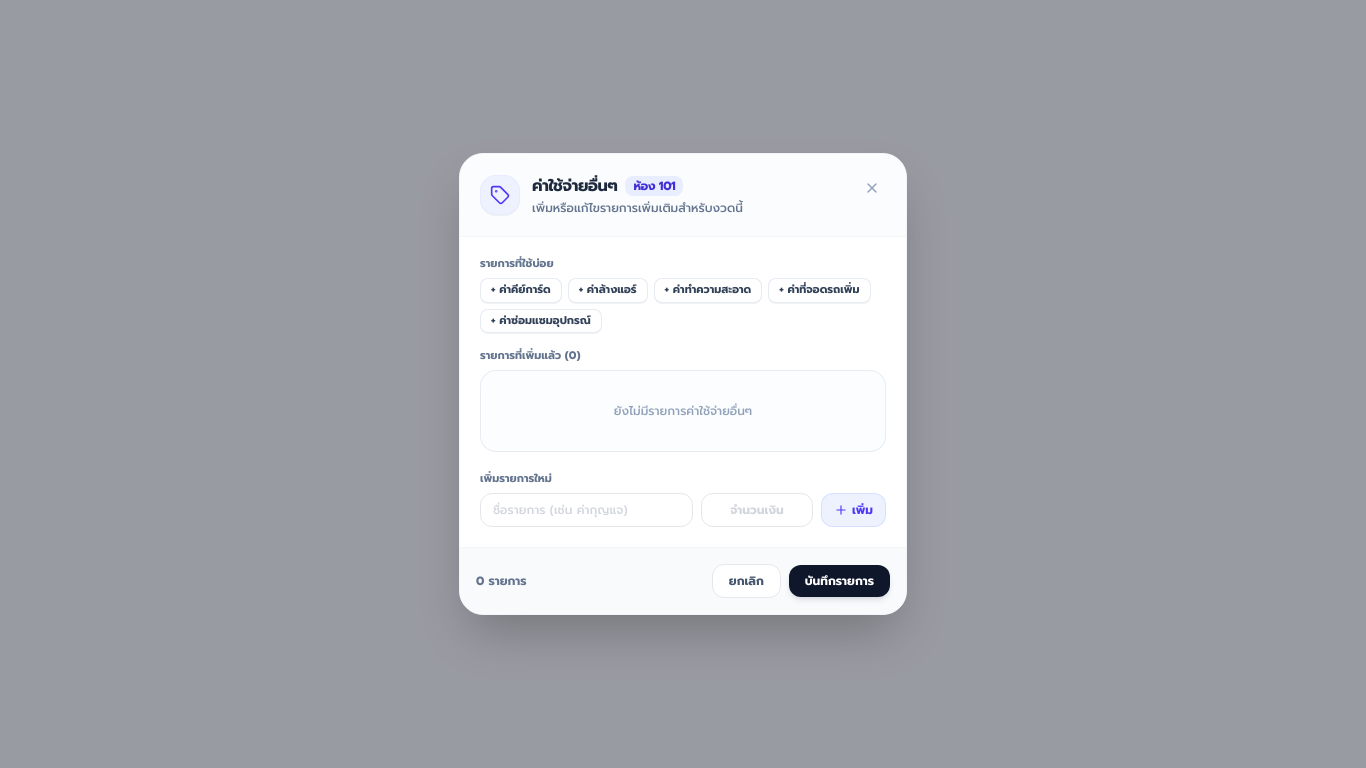
HORPLUS LOCAL-07 — Shared Other Fees Modal UX/UI Suite (Batch C) › C7 & C8. Adding items formats whole baht and satang decimals
// Item 1: whole baht
In the field with placeholder "ชื่อรายการ (เช่น ค่ากุญแจ)": [586, 510] box [480, 493, 693, 527], type "ค่าล้างแอร์"
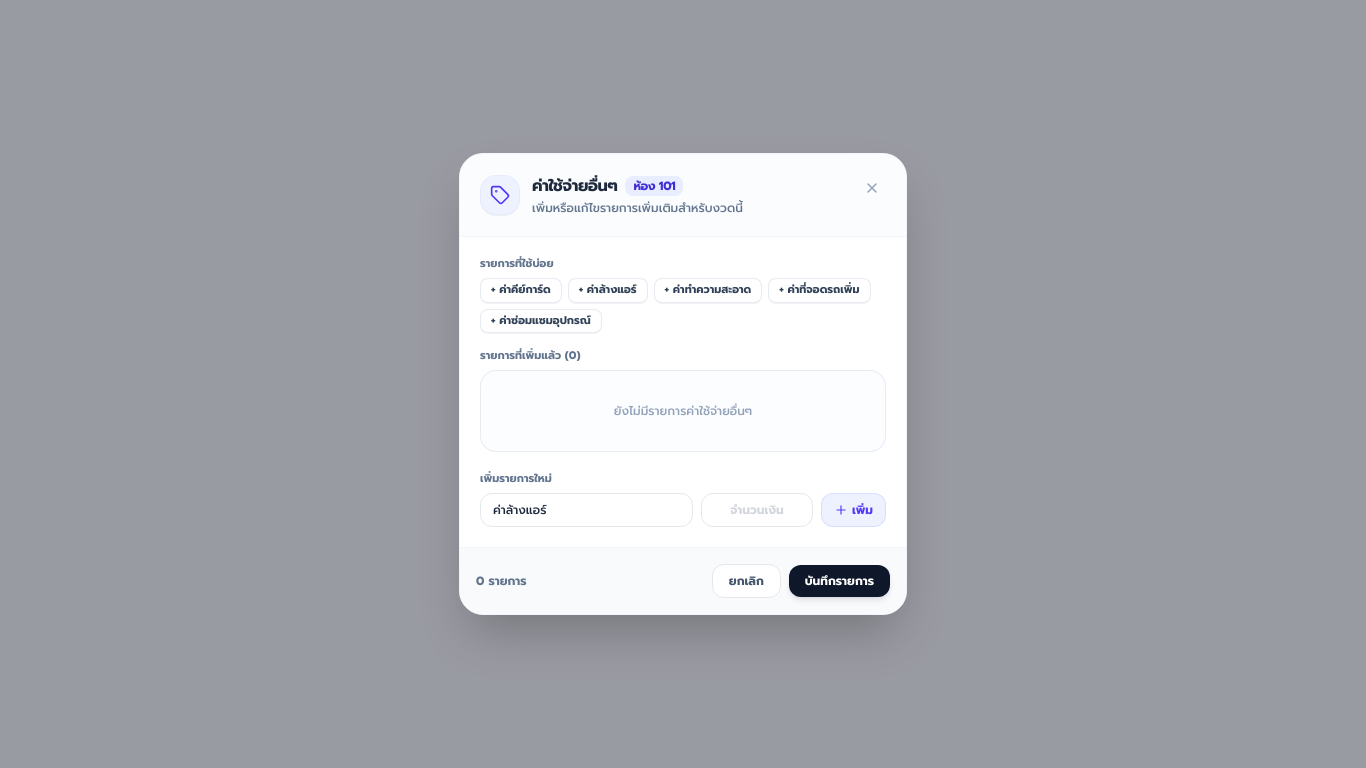
In the field with placeholder "จำนวนเงิน": [757, 510] box [701, 493, 813, 527], type "500"
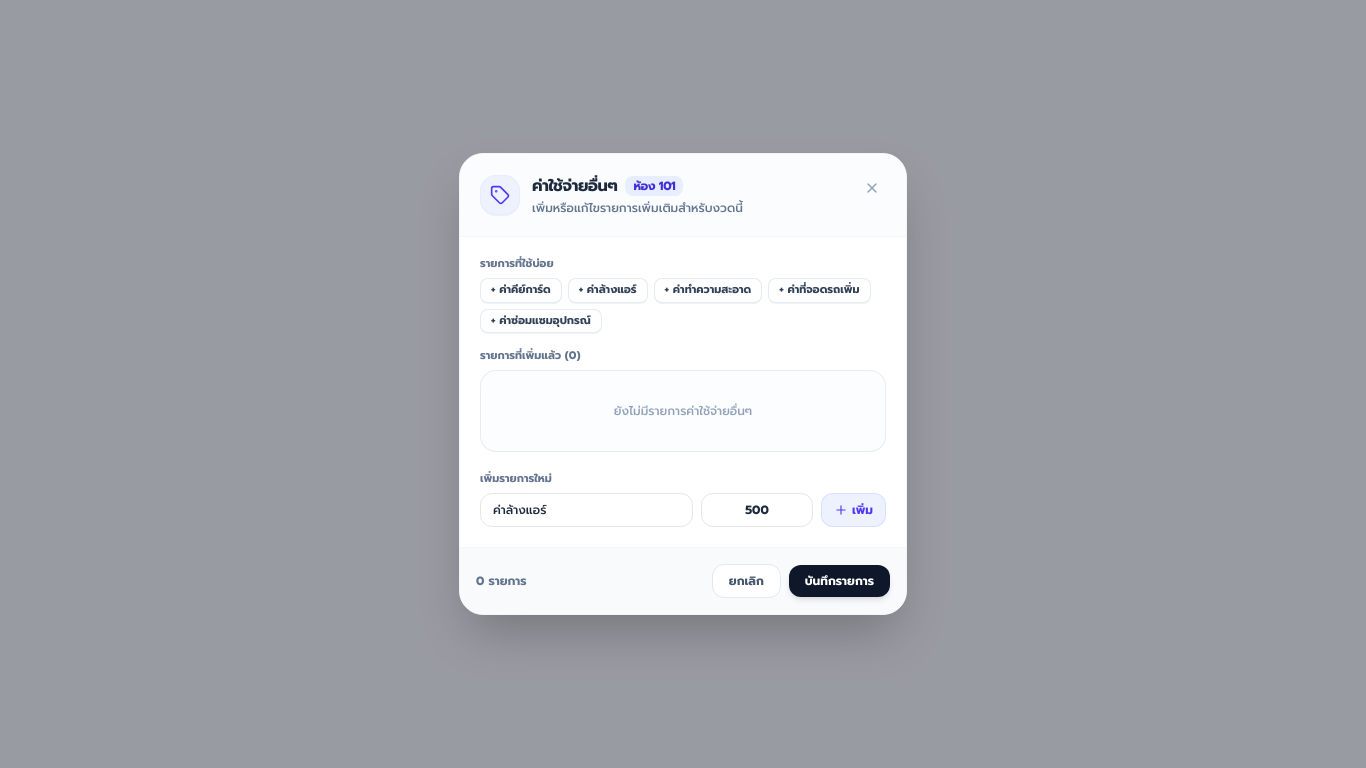
Click the button titled "เพิ่มรายการ": [854, 510] box [821, 493, 886, 527]
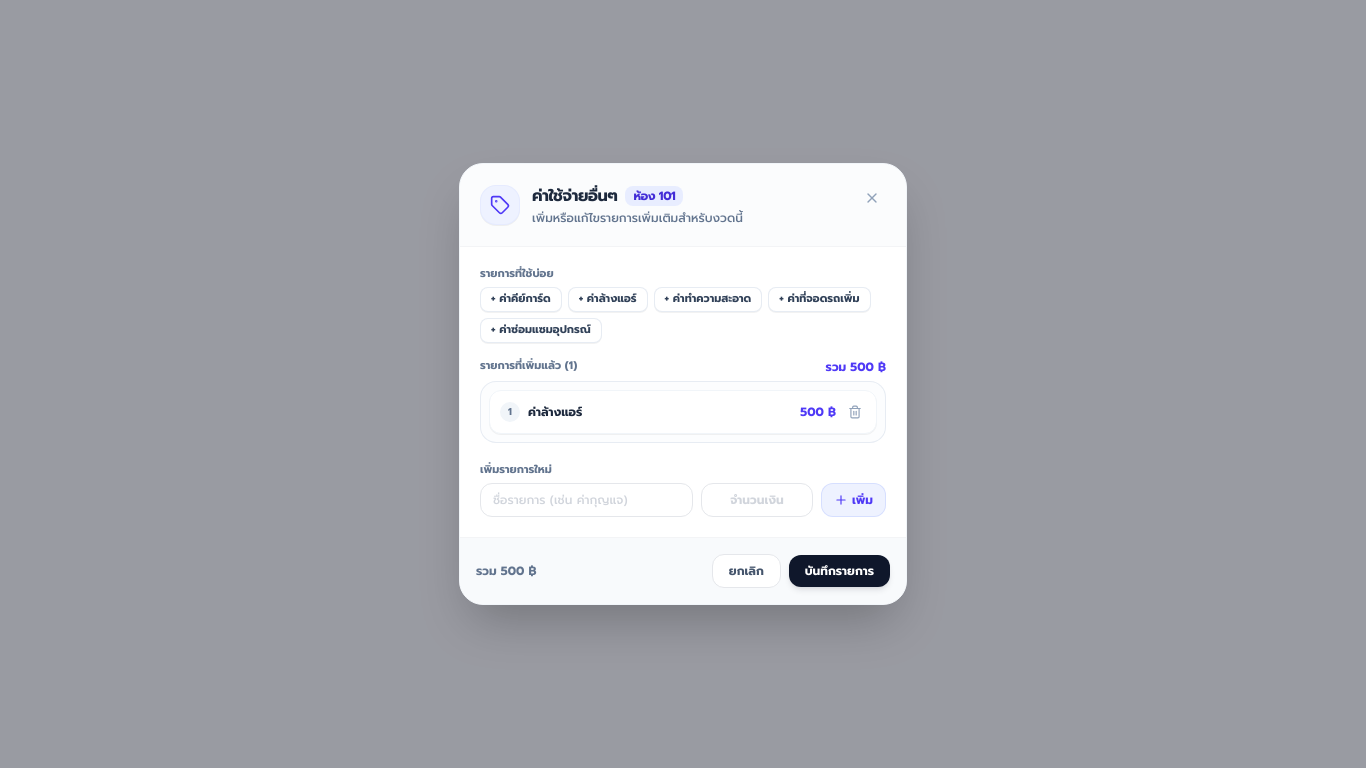
// Item 2: fractional satang
In the field with placeholder "ชื่อรายการ (เช่น ค่ากุญแจ)": [586, 500] box [480, 483, 693, 517], type "ค่าบริการส่วนกลาง"
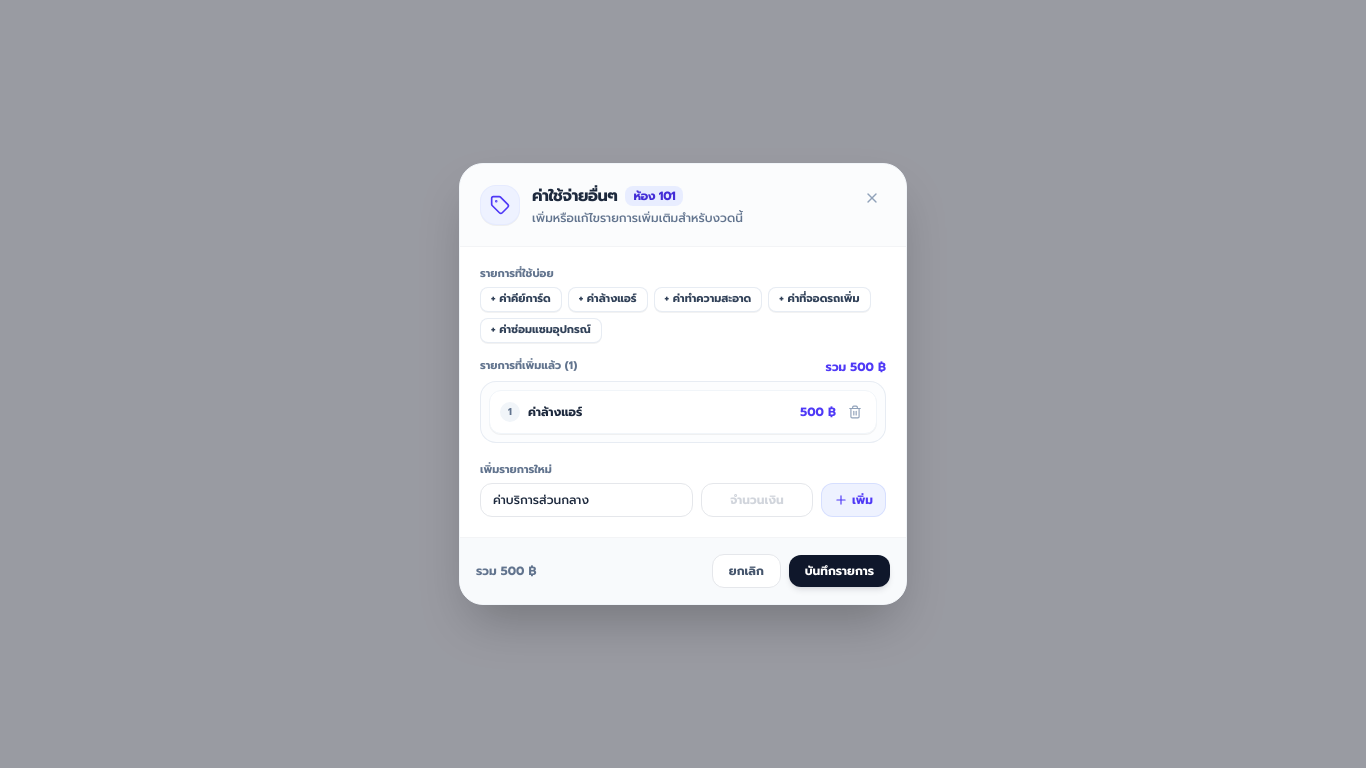
In the field with placeholder "จำนวนเงิน": [757, 500] box [701, 483, 813, 517], type "50.50"
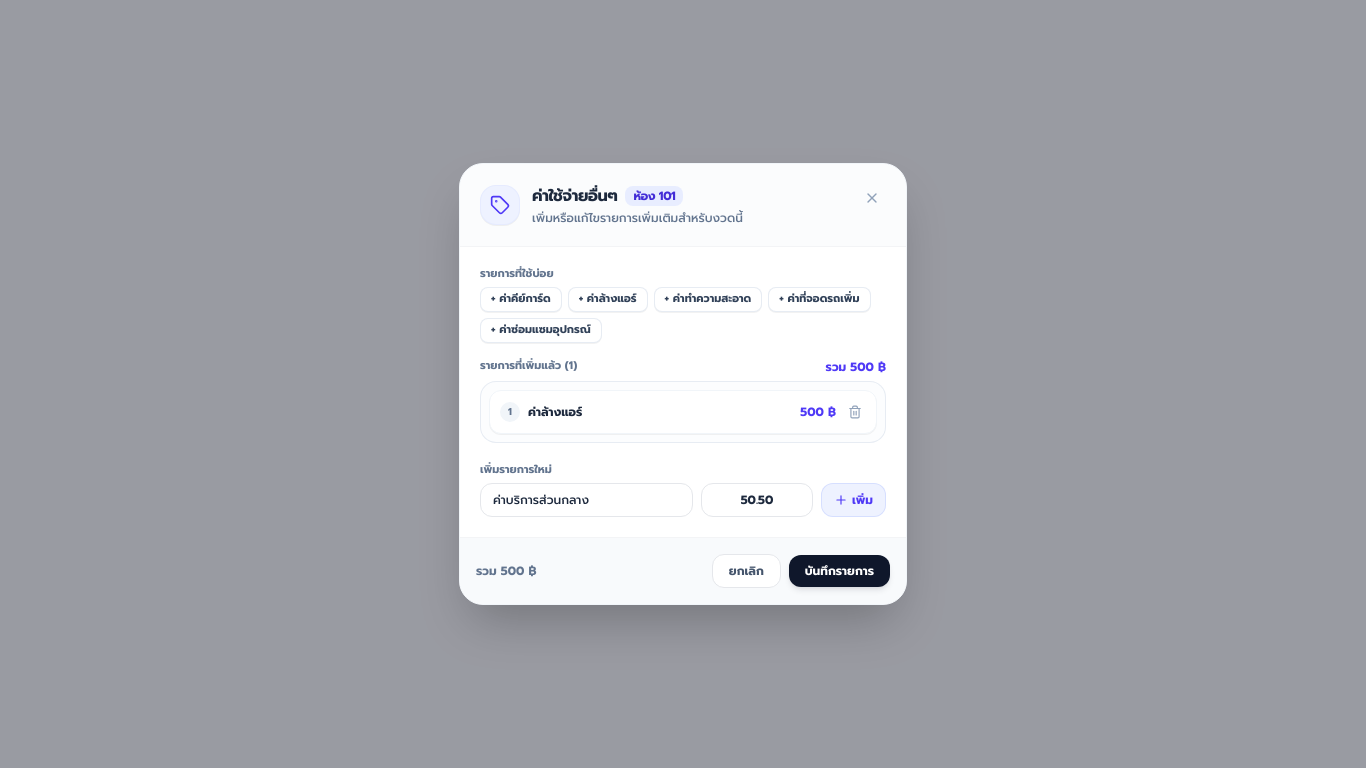
Click the button titled "เพิ่มรายการ": [854, 500] box [821, 483, 886, 517]
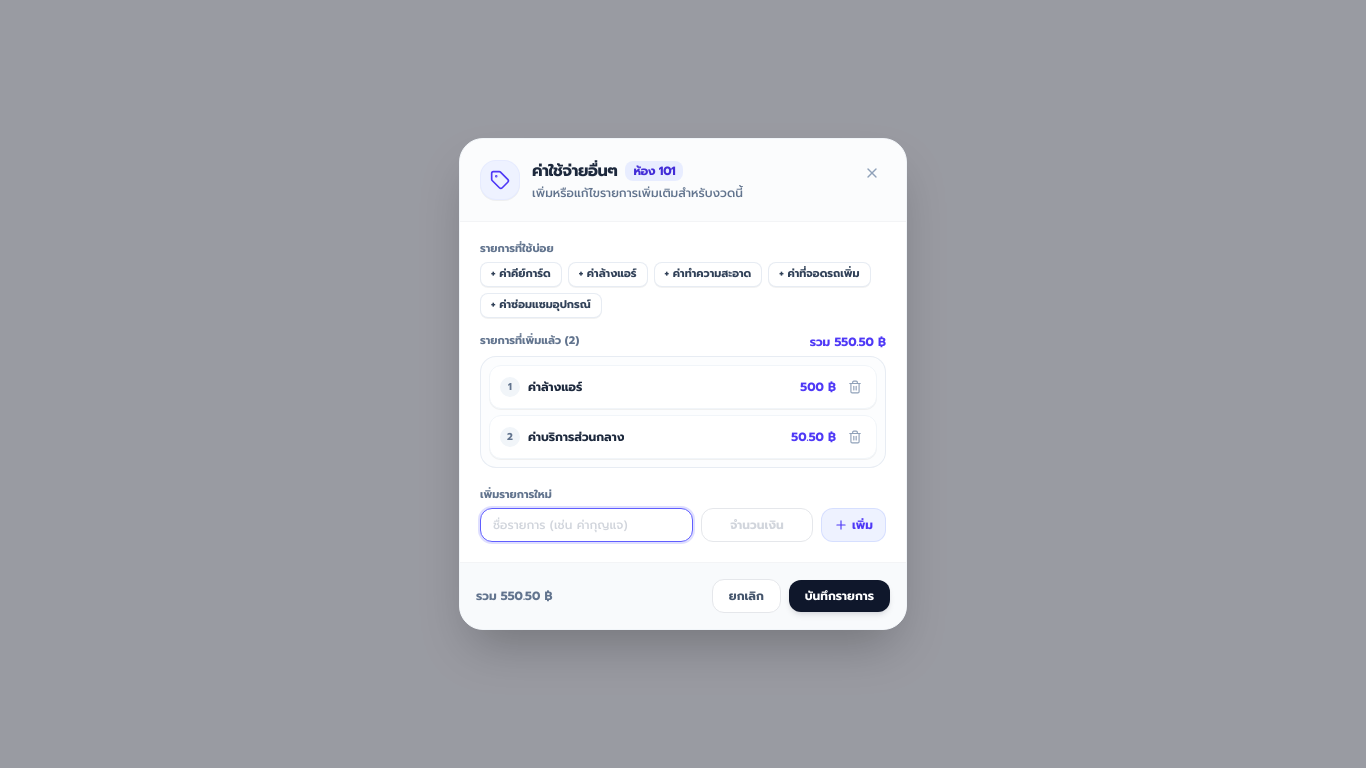
Expected: the text "ค่าล้างแอร์" is shown, [528, 379, 582, 395]
Expected: the text "500 ฿" is shown, [800, 379, 836, 395]
Expected: the text "ค่าบริการส่วนกลาง" is shown, [528, 429, 624, 445]
